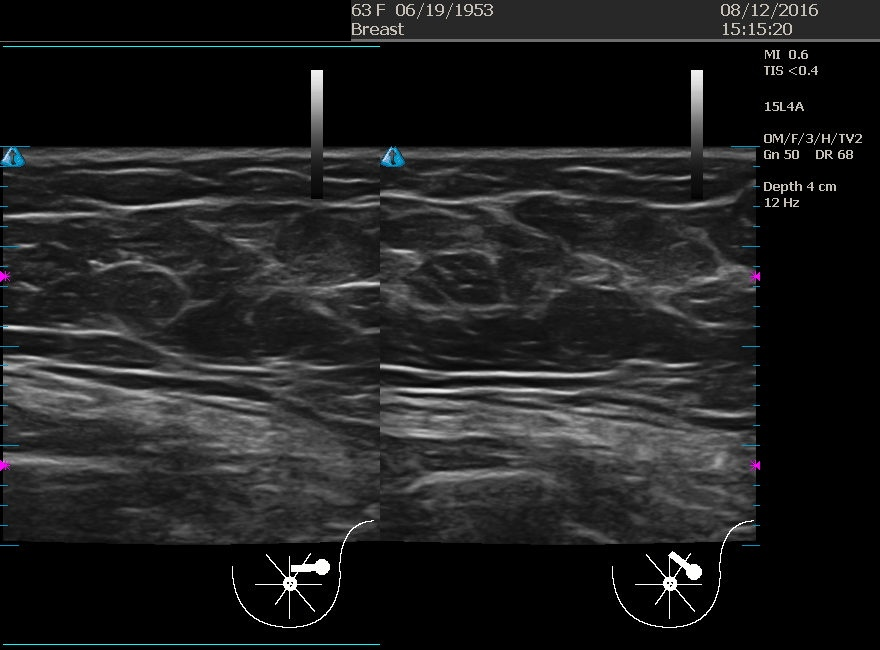BIRADS_2: (384, 171, 585, 371)
BIRADS_3: (29, 252, 229, 452)
